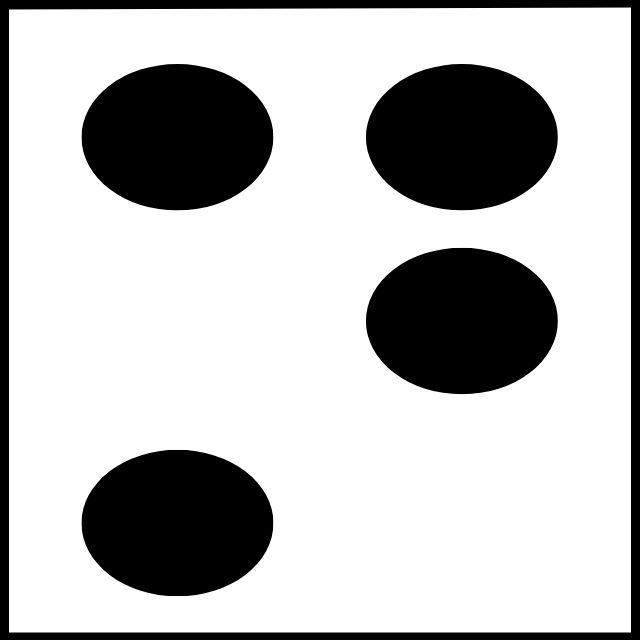one_cell_alphabet_ngayon: (80, 58, 560, 598)
